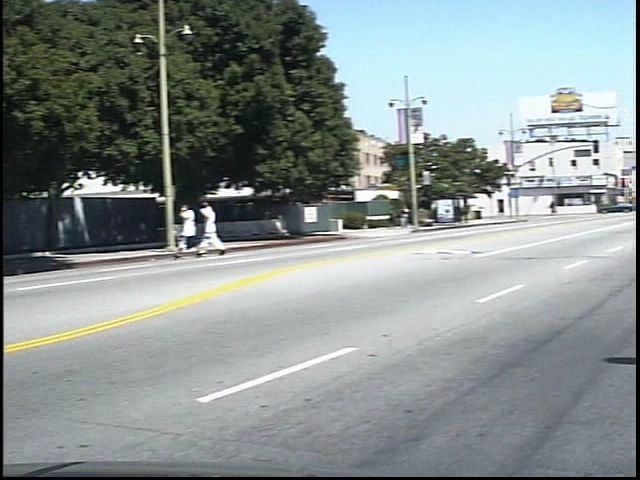person: (192, 196, 218, 258), (213, 198, 238, 258), (412, 203, 427, 230), (558, 194, 571, 219)
